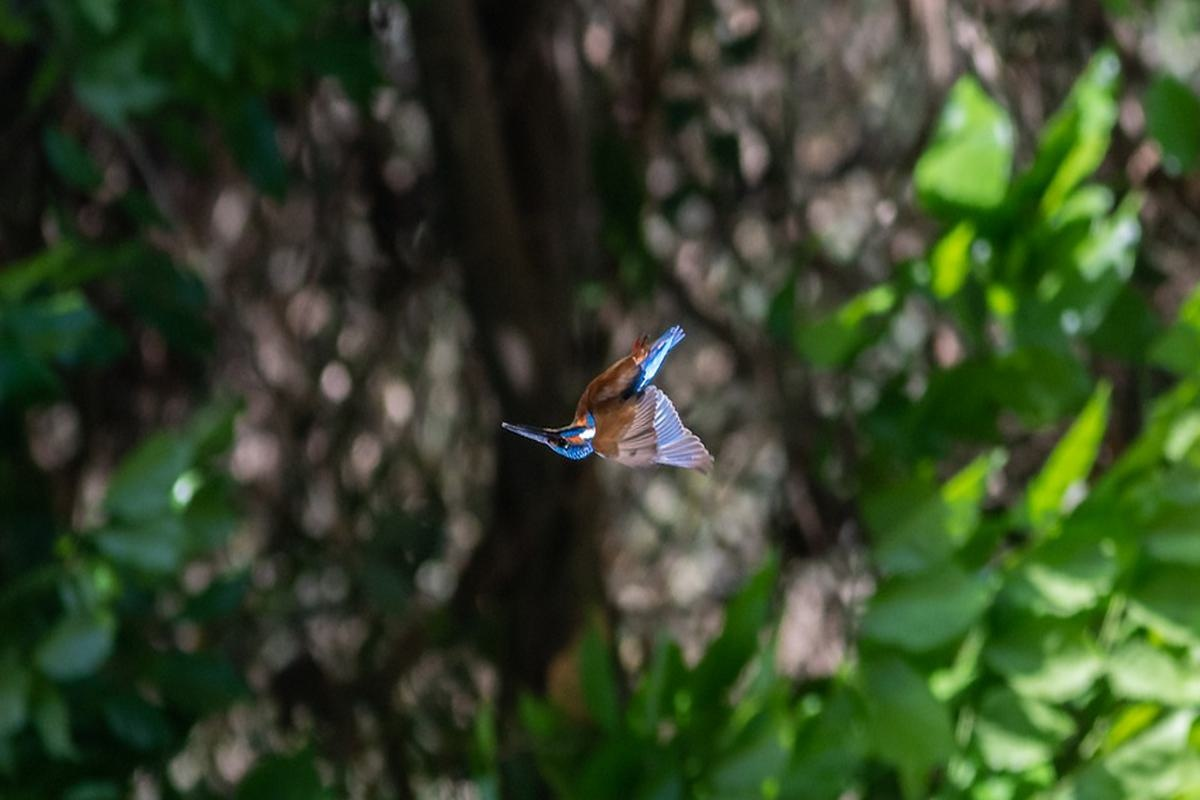kingfisher: (495, 332, 743, 479)
